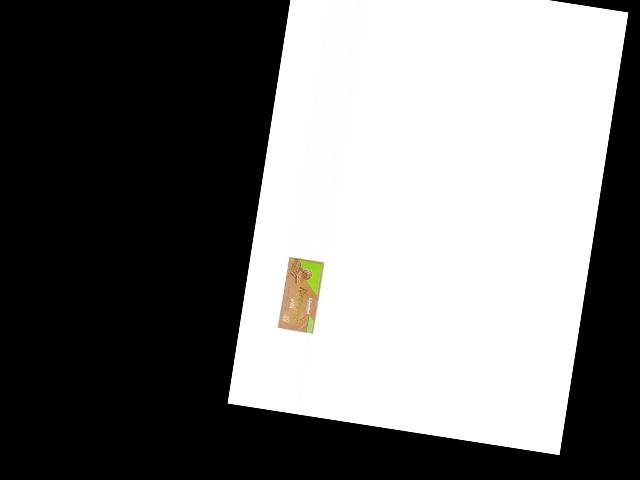chocolate: (273, 255, 326, 337)
